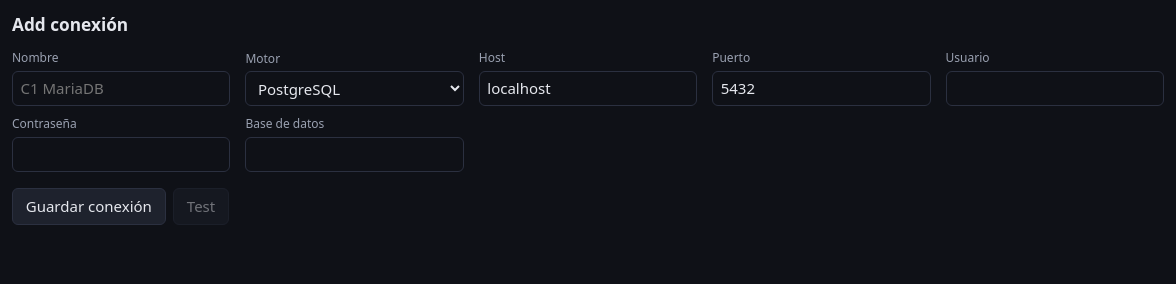
Test: probar la conexión informa el resultado real
Type "Postgres demo" into the field labelled "Nombre" at (121, 88), box x1=12 y1=71 x2=230 y2=106
Replace the text in the field labelled "Host" with "db" at (588, 88), box x1=479 y1=71 x2=697 y2=106
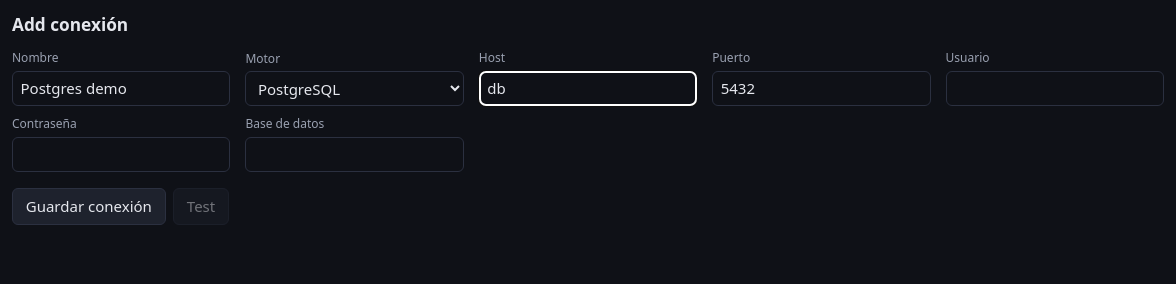
Type "loguser" into the field labelled "Usuario" at (1055, 88), box x1=946 y1=71 x2=1164 y2=106
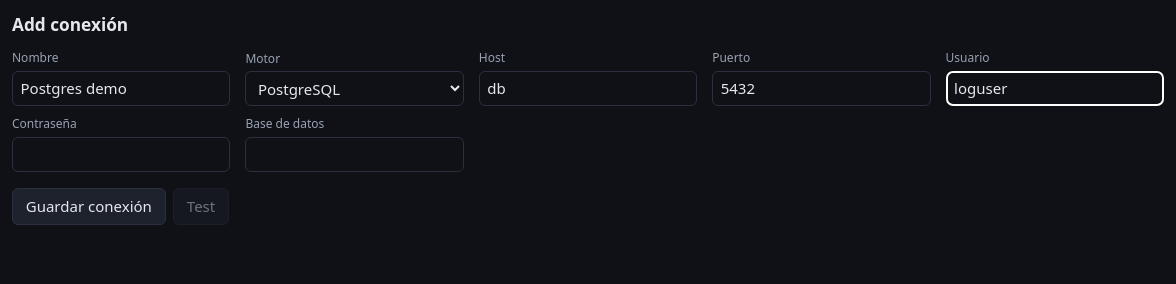
Type "logpass" into the password field labelled "Contraseña" at (121, 154), box x1=12 y1=137 x2=230 y2=172
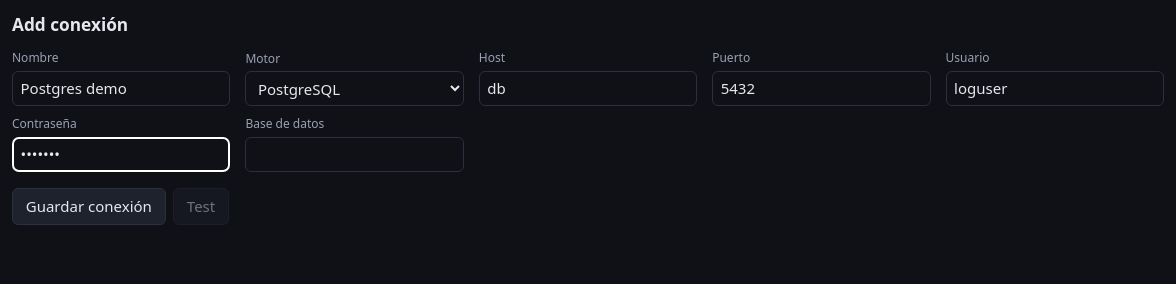
Type "logdb" into the field labelled "Base de datos" at (355, 154), box x1=245 y1=137 x2=464 y2=172
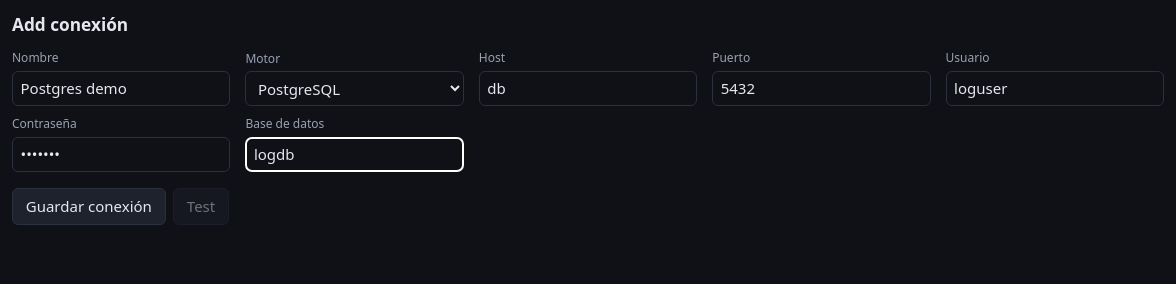
Click the button "Guardar conexión" at (89, 206), box x1=12 y1=188 x2=166 y2=225
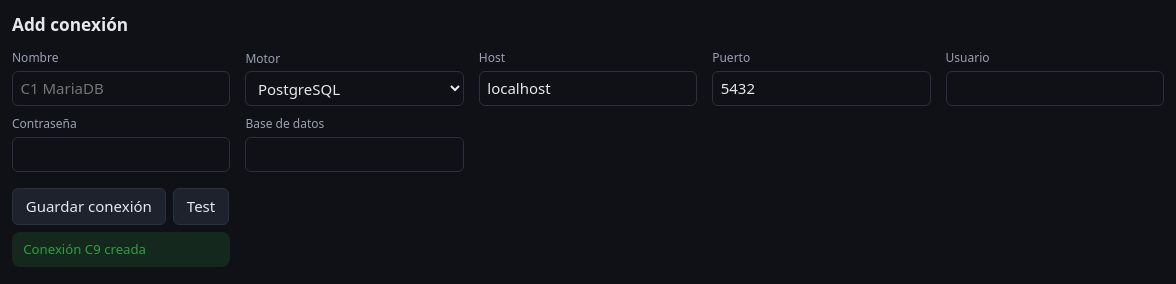
Expected: the text "Conexión C9 creada" is shown, x1=12 y1=232 x2=230 y2=267
Click the button "Test" at (201, 206), box x1=173 y1=188 x2=229 y2=225
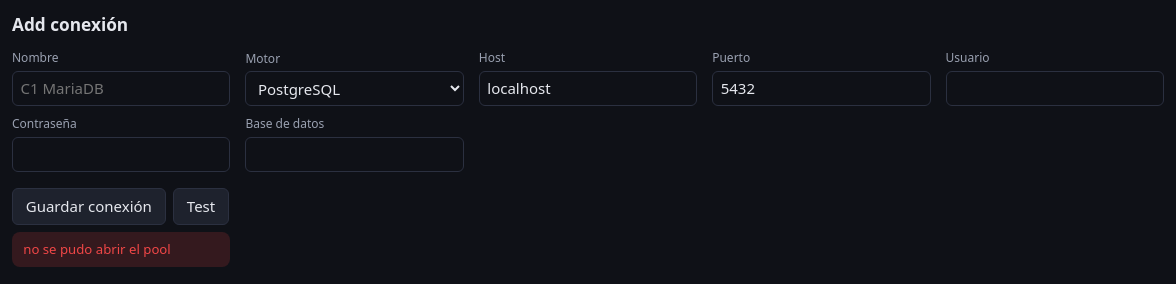
Expected: the text "no se pudo abrir el pool" is shown, x1=12 y1=232 x2=230 y2=267
